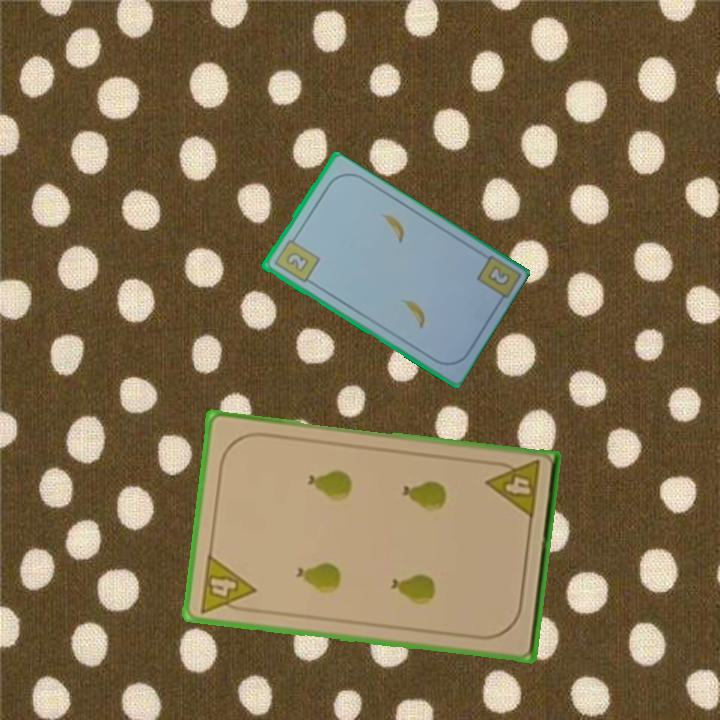2b: (270, 232, 322, 286), (483, 262, 513, 289)
4p: (196, 550, 258, 616), (483, 457, 543, 522)
